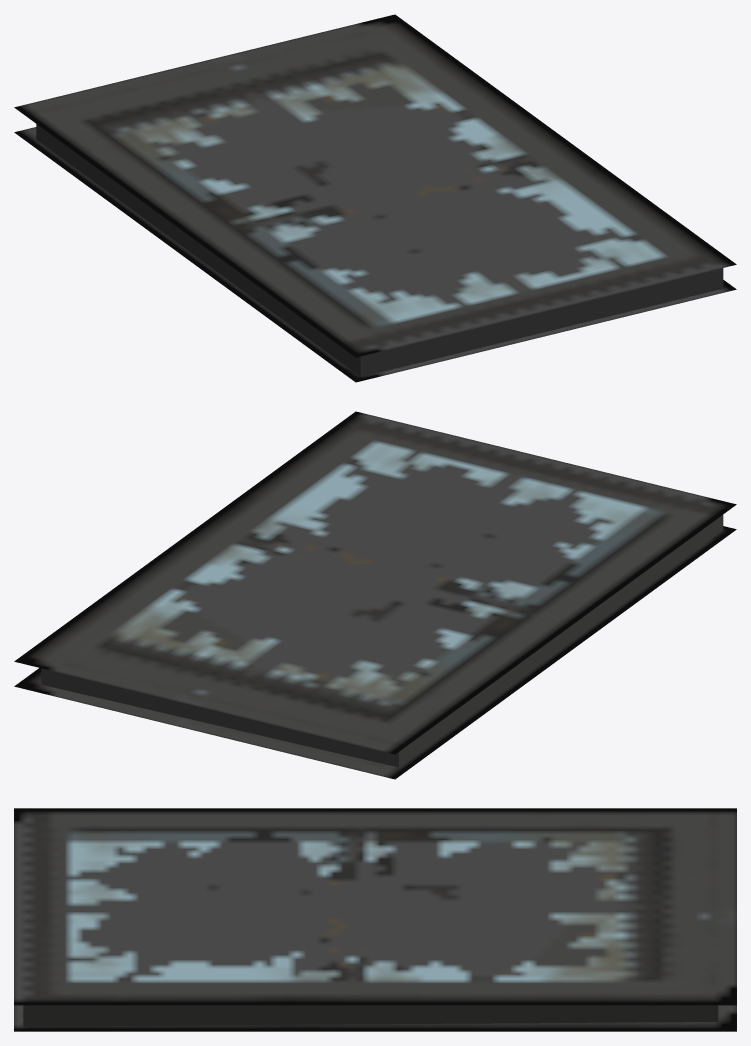
The model's file is pz_native_fixtures_windows_01_37_frame.obj.
3 views of the same model, one above another, from view 1: azimuth 30°, elevation 25°; view 2: azimuth 150°, elevation 25°; view 3: azimuth 270°, elevation 25° (orthographic). The views are drawn at different scales.
Visible parts, largest first — view 1: pz_native_fixtures_windows_01_37_frame; view 2: pz_native_fixtures_windows_01_37_frame; view 3: pz_native_fixtures_windows_01_37_frame.
Boxes of the visible parts, box(x1,y1,x2,y2) form: pz_native_fixtures_windows_01_37_frame: box(14, 14, 736, 382); pz_native_fixtures_windows_01_37_frame: box(14, 411, 736, 779); pz_native_fixtures_windows_01_37_frame: box(14, 808, 736, 1031).
Bounding box in the file's own units: 0.6406 × 0.04 × 0.9951.
1 material, 1 textured.
